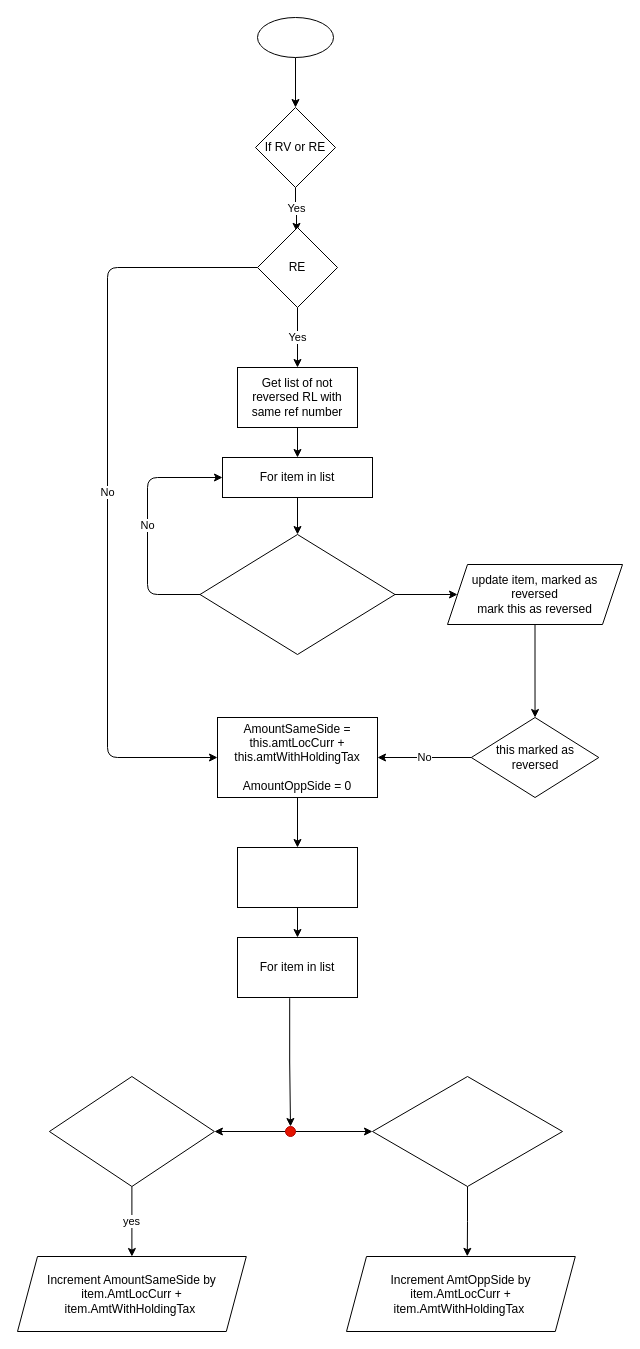
Some shapes in this 640 by 1349 pixel diagram are drawn without their labels. The centre of each missing label's shape, as x and y in pixels:
Get list of all Non RL with same ref number: [297,877]
item and this has not same docType and sapOwner: [467,1131]
item and this has same docType and sapOwner: [131,1131]
Start: [295,37]
this.amtLocCurr === (-item.amtLocCurr): [297,594]
